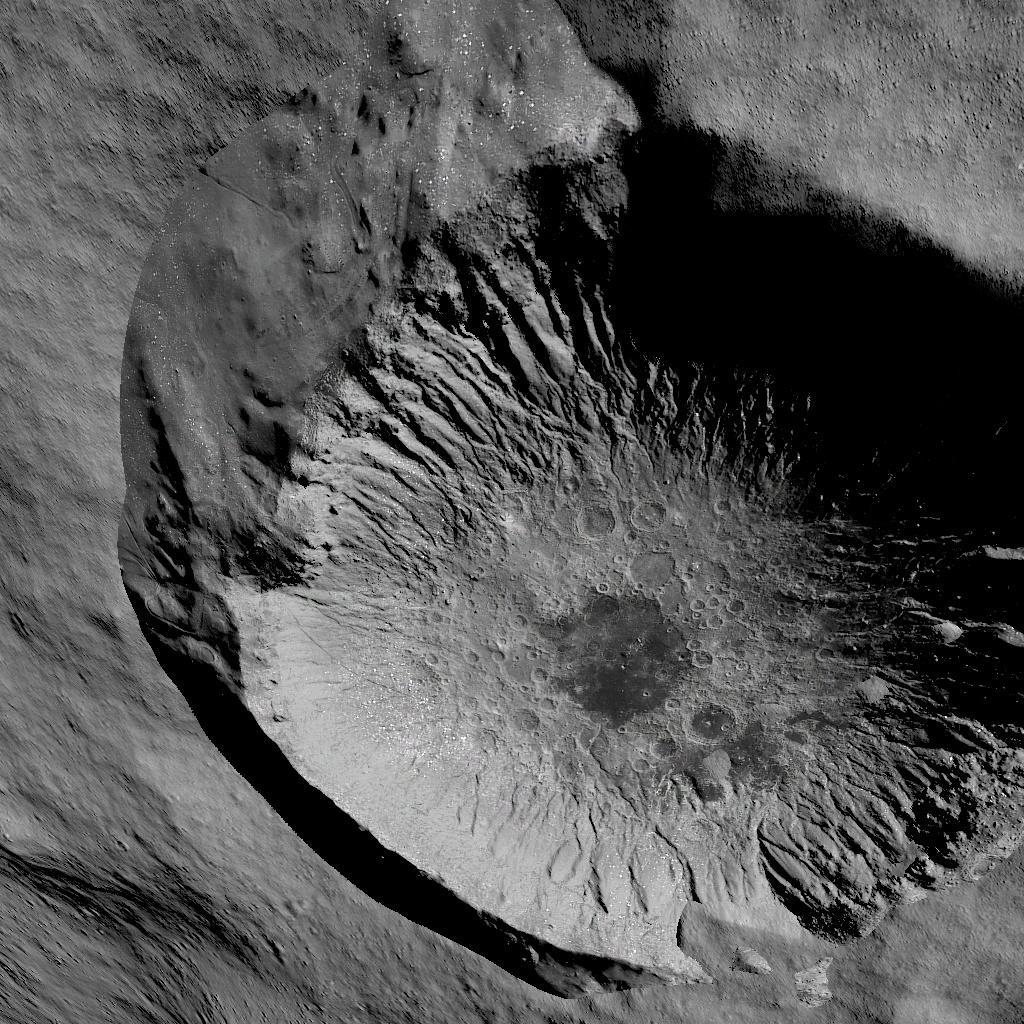Crater: (103, 0, 1024, 1024)
